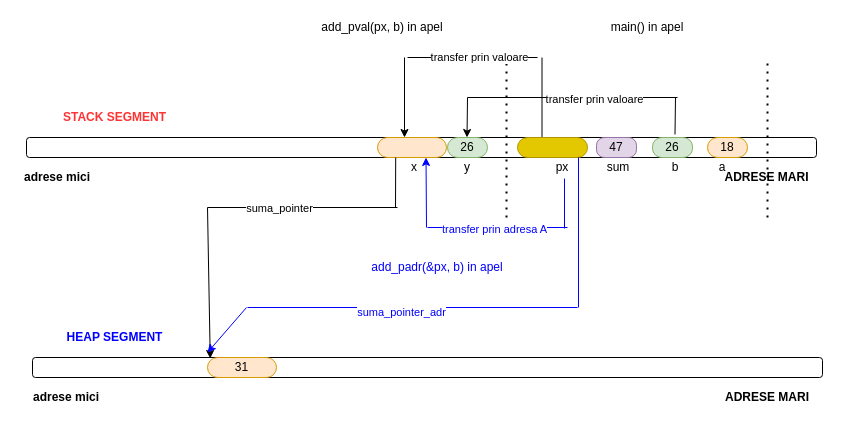
Image size: 851x424. Some labels were removed from this diagram. The centre of each missing label's shape, as x and y in pixels:
"AH / A" belongs at (x=411, y=147).
"NULL / AH" belongs at (x=552, y=147).
